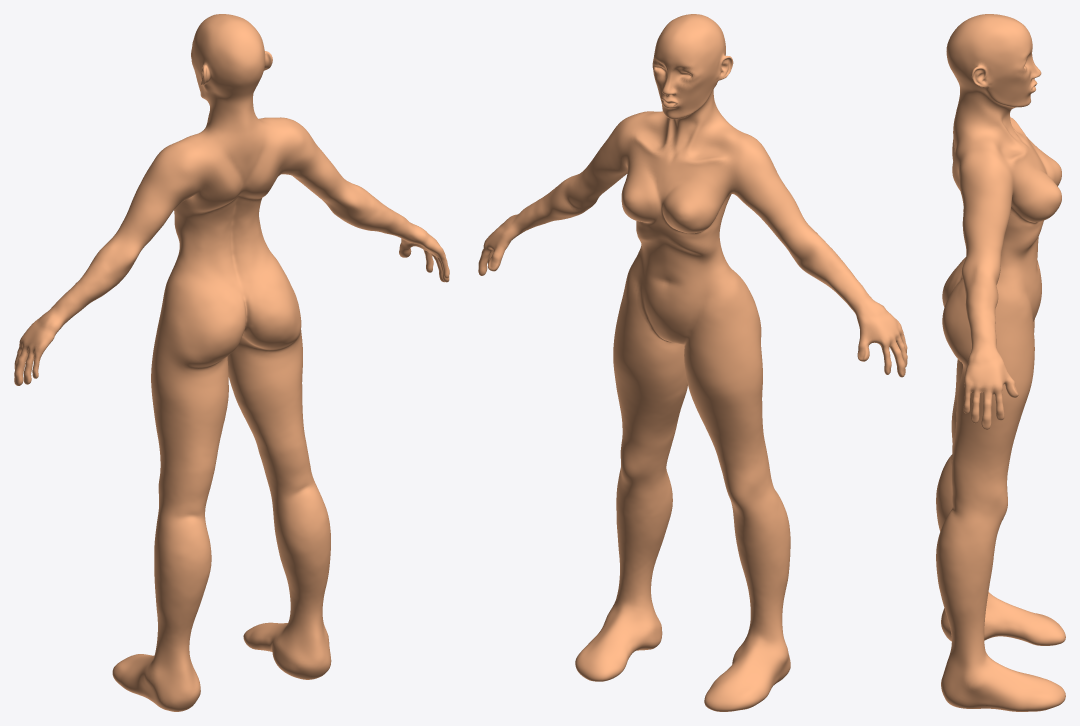
3 views of the same model, side by side, from view 1: azimuth 30°, elevation 25°; view 2: azimuth 150°, elevation 25°; view 3: azimuth 270°, elevation 25° (orthographic).
Visible parts, largest first — view 1: Retopo_BODY; view 2: Retopo_BODY; view 3: Retopo_BODY.
Part boxes in pixels (x1,y1,x2,y2): Retopo_BODY: (14, 14, 449, 711); Retopo_BODY: (478, 14, 907, 711); Retopo_BODY: (936, 14, 1065, 711).
Size of the model in its own units: 1011 by 1488 by 266.
